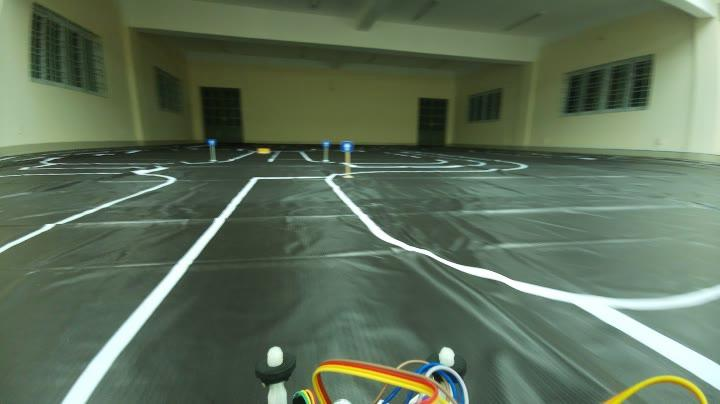onewayroad: (338, 138, 356, 154), (320, 138, 330, 148), (208, 137, 216, 146)
roadblock: (253, 146, 272, 156)
